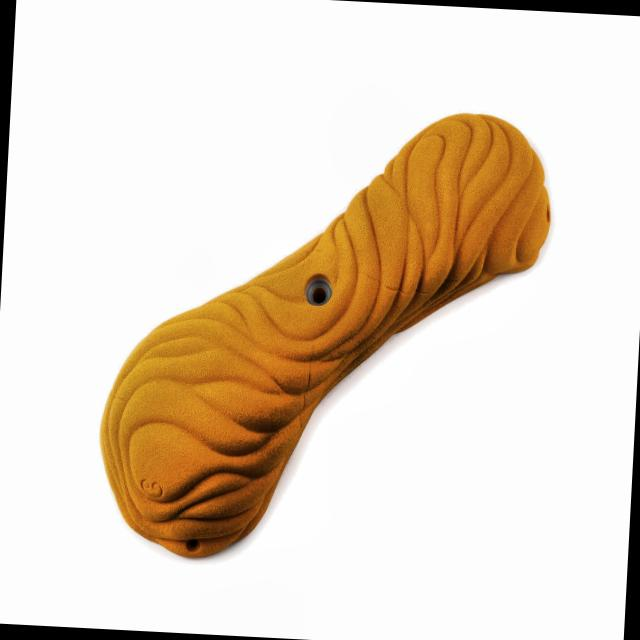Hold: (96, 90, 558, 580)
